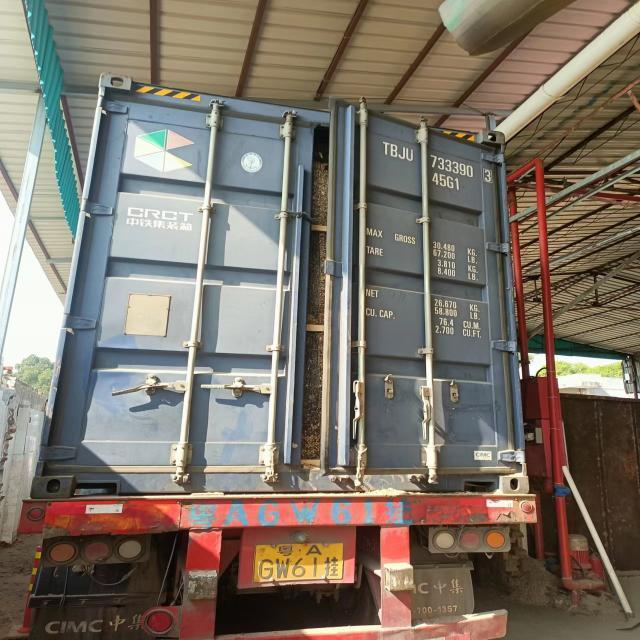ISO: (426, 166, 464, 194)
container_number: (381, 136, 498, 181)
